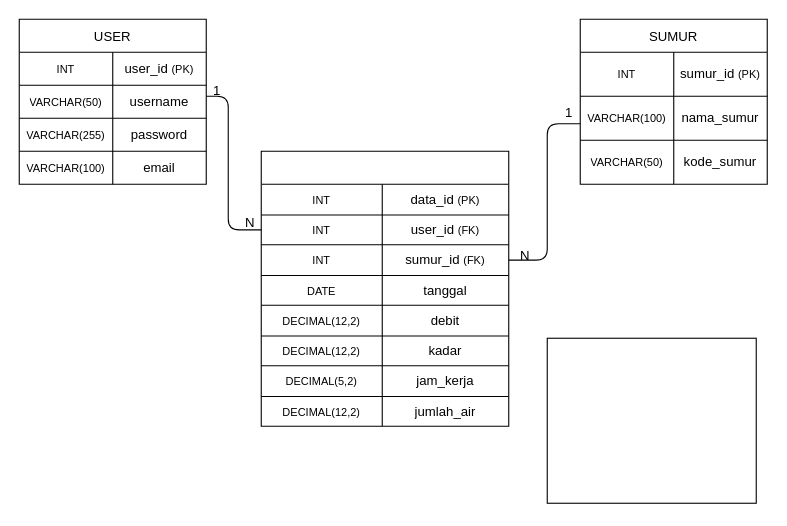
This 787x526 diagram has some shape labels left out. Each missing label, with the box of its shape:
DATA_SUMUR: (260, 150, 509, 426)
Keterangan PK : Primary Key FK : Foerign Key 1 : Satu (one) N : Banyak (many): (546, 337, 756, 503)
